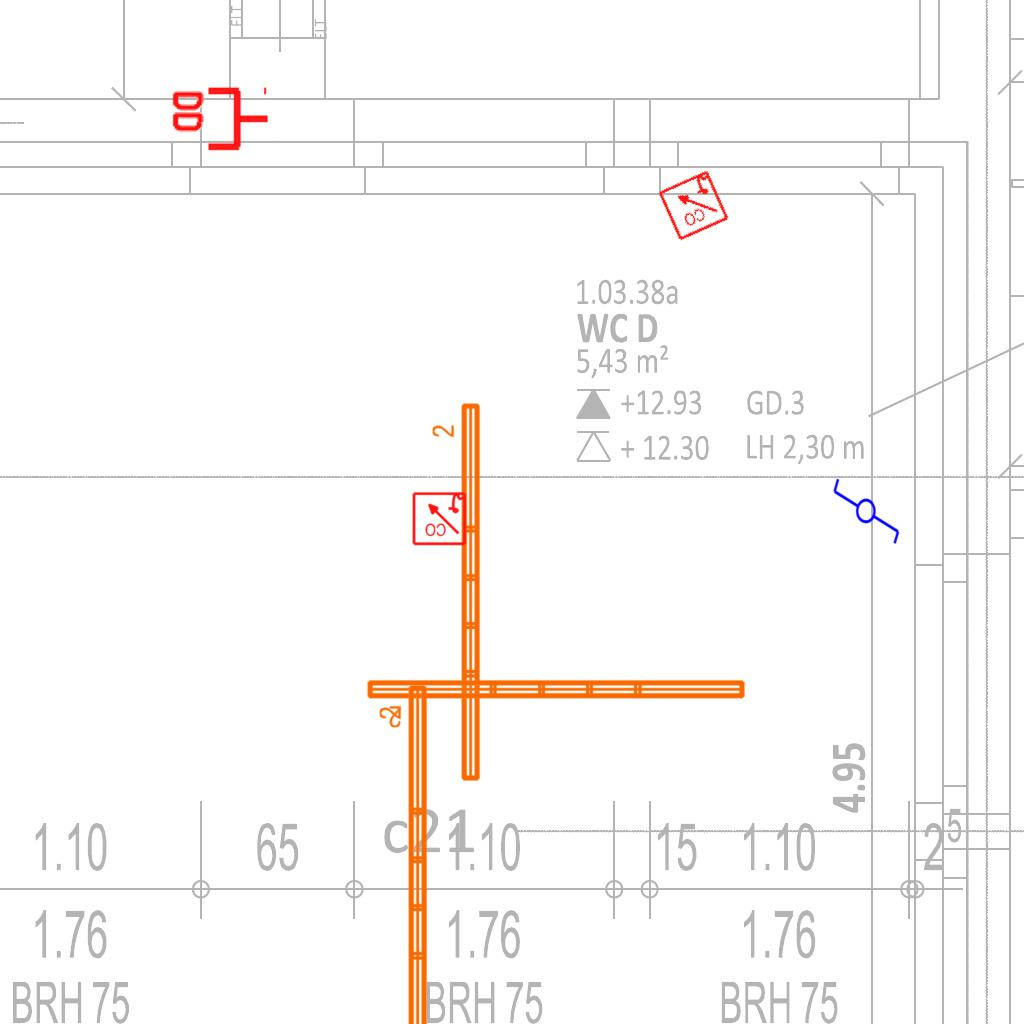Ambulanz_Pendelleuchte_LED: (430, 399, 486, 786), (363, 674, 750, 730), (377, 681, 433, 1024)
Datenanschluss_zweifach: (168, 86, 271, 155)
ROA_Rauchmelder_optisch_mit_Signalgeber_(Sockelsirene): (656, 168, 730, 242), (411, 490, 467, 546)
Wechselschalter: (831, 468, 903, 546)
